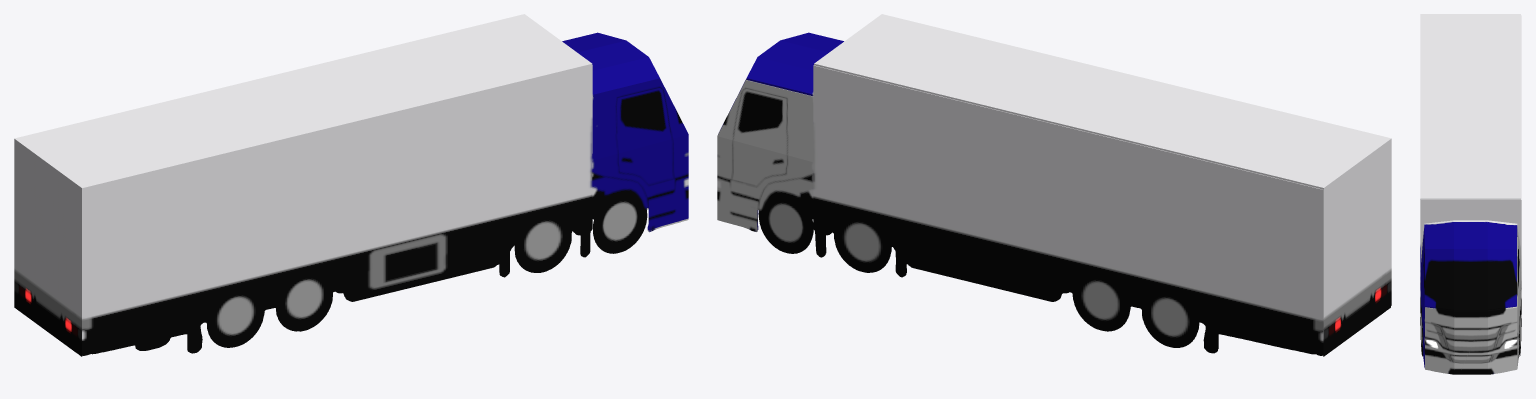
Rendered from truck1.glb.
3 renders of one model, left to right at view 1: azimuth 30°, elevation 25°; view 2: azimuth 150°, elevation 25°; view 3: azimuth 270°, elevation 25°, orthographic. The views are drawn at different scales.
Visible parts, largest first — view 1: Cube.004, Cube; view 2: Cube, Cube.004; view 3: Cube.004, Cube.
Part boxes in pixels (x1=…): Cube.004: x1=14, y1=14, x2=688, y2=355; Cube: x1=14, y1=65, x2=688, y2=356; Cube: x1=717, y1=65, x2=1390, y2=356; Cube.004: x1=720, y1=14, x2=1391, y2=354; Cube.004: x1=1420, y1=14, x2=1520, y2=367; Cube: x1=1421, y1=15, x2=1521, y2=374.
Size of the model in its own units: 11.84 by 3.58 by 2.25.
5 materials, 5 textured.
